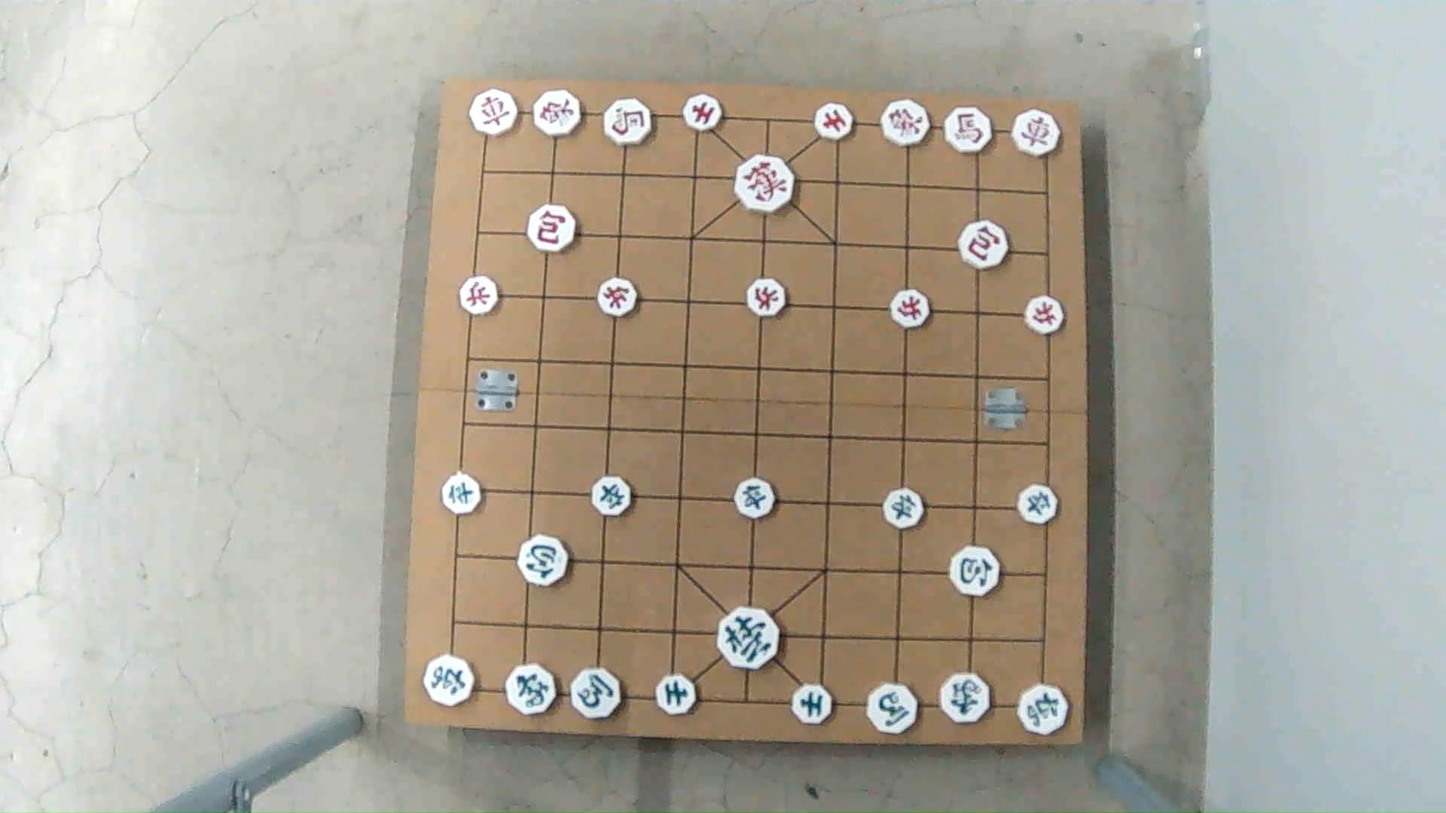cha_green: (422, 653, 475, 705), (1014, 688, 1070, 735)
cha_red: (1011, 112, 1063, 156), (468, 91, 520, 133)
jol_green: (731, 477, 779, 517), (1017, 487, 1063, 523), (444, 478, 488, 515), (883, 491, 928, 527), (591, 477, 636, 513)
jol_red: (888, 289, 932, 328), (458, 276, 502, 315), (596, 280, 640, 318), (1023, 295, 1066, 333), (744, 279, 788, 314)
ma_green: (569, 668, 626, 717), (865, 686, 920, 733)
ma_red: (603, 102, 654, 147), (941, 111, 993, 153)
po_green: (516, 538, 570, 584), (947, 548, 1000, 593)
po_red: (959, 224, 1012, 267), (526, 208, 578, 251)
sa_green: (652, 675, 697, 714), (790, 687, 833, 725)
sa_red: (812, 107, 854, 141), (684, 98, 725, 132)
sang_green: (505, 660, 556, 717), (939, 676, 994, 725)
sang_red: (880, 104, 932, 148), (532, 91, 584, 135)
wang_green: (716, 610, 781, 666)
wang_red: (738, 160, 798, 212)
